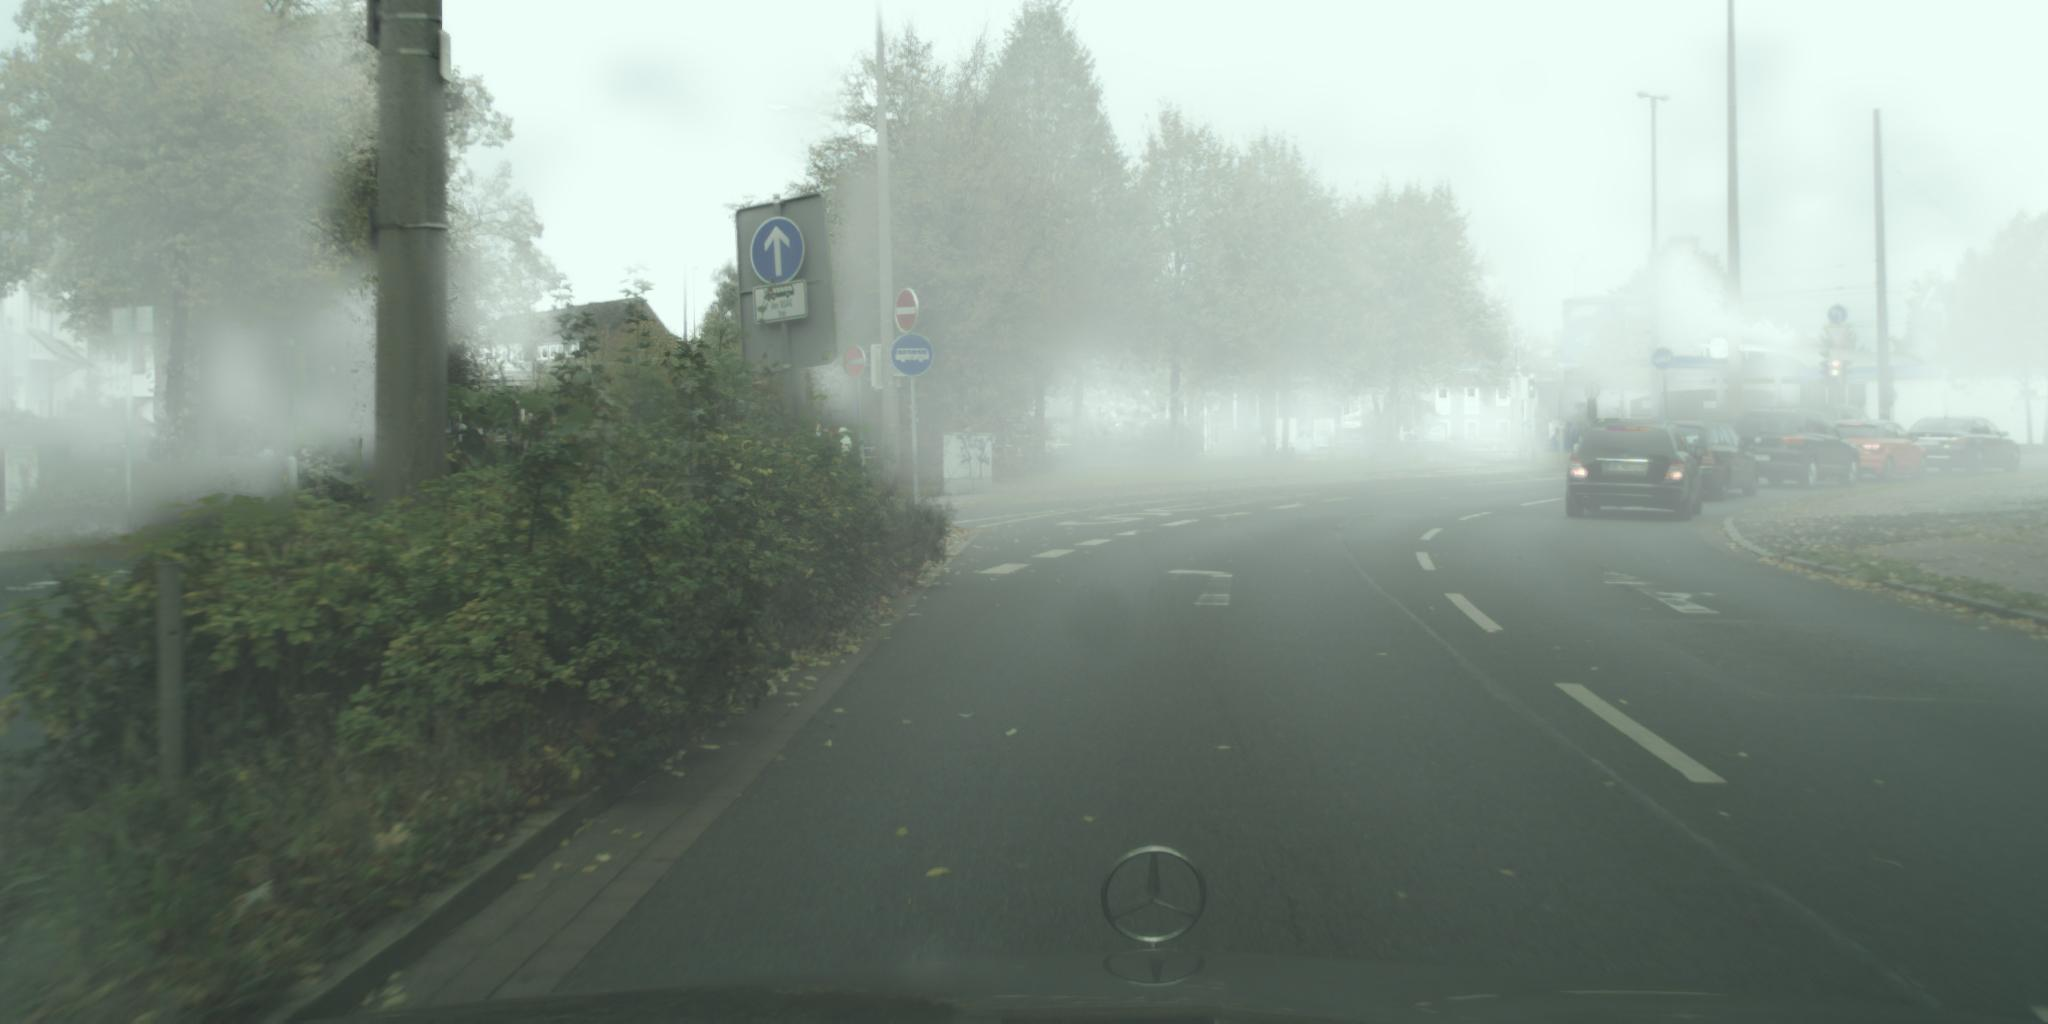car: (1566, 421, 1708, 522), (1732, 408, 1863, 492), (1650, 421, 1761, 504), (1906, 415, 2021, 478), (1832, 421, 1929, 485), (1788, 404, 1873, 443), (1689, 417, 1748, 441), (1472, 438, 1510, 452), (1448, 438, 1475, 451)
